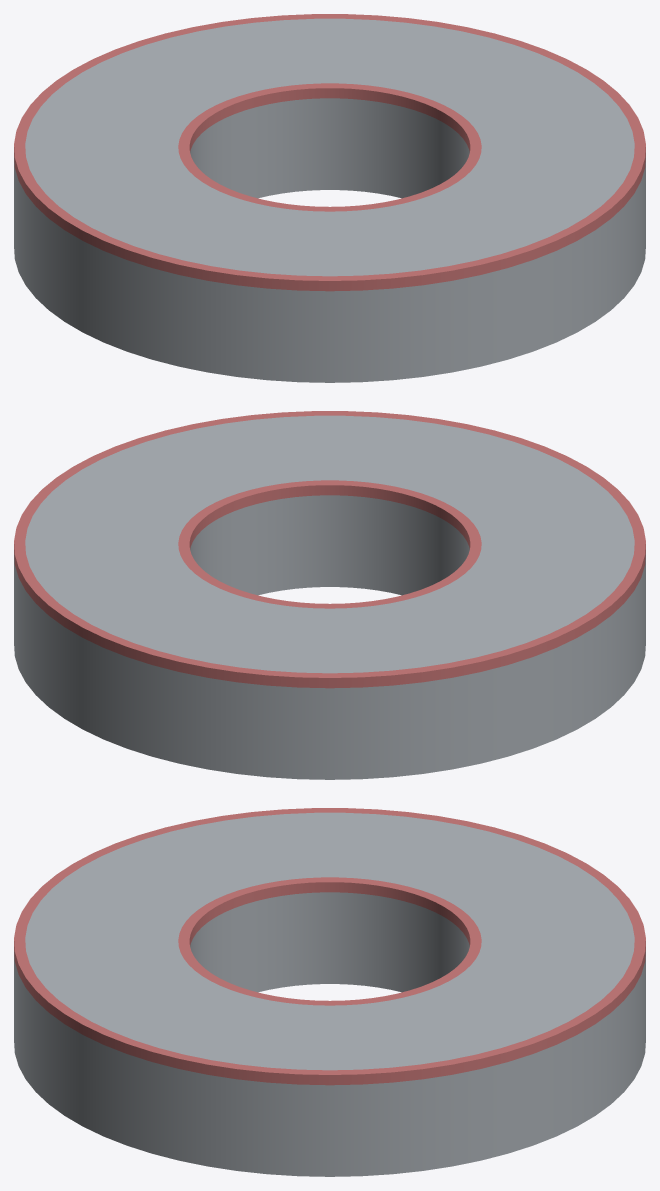
File: step_11.glb
3 renders of one model, top to bottom at view 1: azimuth 30°, elevation 25°; view 2: azimuth 150°, elevation 25°; view 3: azimuth 270°, elevation 25°, orthographic.
Parts seen in each view (by area): view 1: part__lock nut M20 x 2.5, removed__lock nut M20 x 2.5; view 2: part__lock nut M20 x 2.5, removed__lock nut M20 x 2.5; view 3: part__lock nut M20 x 2.5, removed__lock nut M20 x 2.5.
Part boxes in pixels (bbox=[...]): part__lock nut M20 x 2.5: bbox=[14, 18, 645, 382]; removed__lock nut M20 x 2.5: bbox=[14, 14, 645, 291]; part__lock nut M20 x 2.5: bbox=[14, 415, 645, 779]; removed__lock nut M20 x 2.5: bbox=[14, 411, 645, 688]; part__lock nut M20 x 2.5: bbox=[14, 812, 645, 1176]; removed__lock nut M20 x 2.5: bbox=[14, 808, 645, 1085].
Size of the model in its own units: 44.97 by 8 by 44.99.
